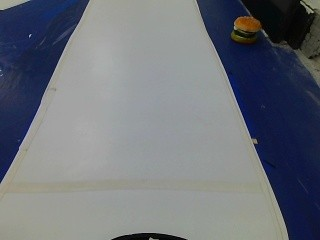burger: (224, 14, 269, 49)
